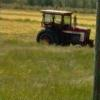Tractor: (33, 2, 100, 53)
